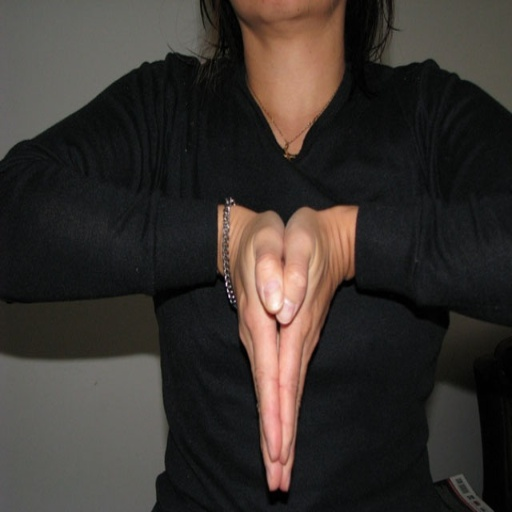hand: (272, 203, 339, 494)
